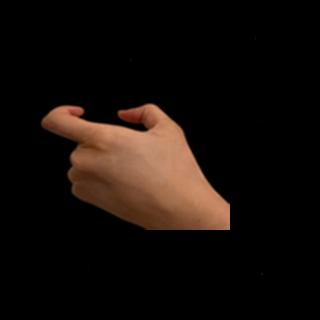HATE: (37, 96, 207, 228)
